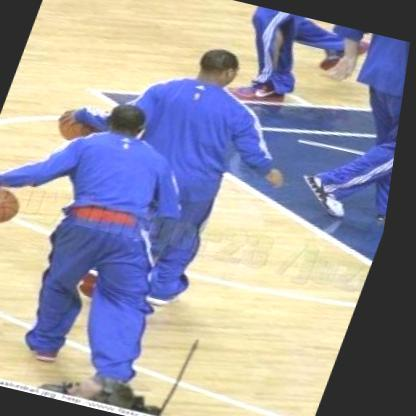basketball: (51, 102, 109, 150), (0, 177, 37, 232)
